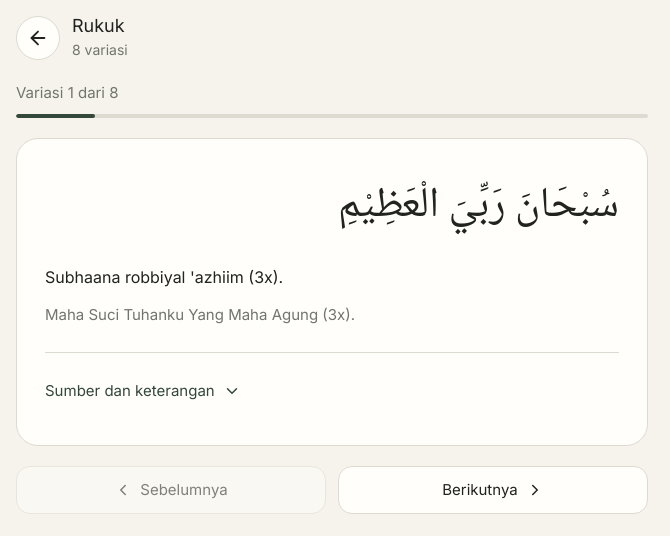
Test: Detail page › navigates next and previous with disabled states
This screenshot has width=670, height=536.
Expected: the text "Variasi 1 dari 8" is shown, [16,83,118,102]
Expected: the button "Sebelumnya" is disabled, [16,466,326,514]
Click the button "Berikutnya": (493, 490) [338,466,648,514]
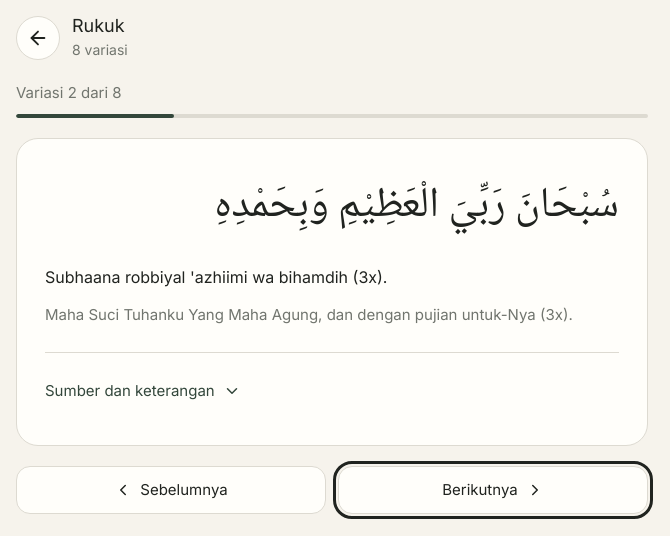
Expected: the text "Variasi 2 dari 8" is shown, [16,83,122,102]
Expected: the button "Sebelumnya" is enabled
Click the button "Sebelumnya": (171, 490) [16,466,326,514]
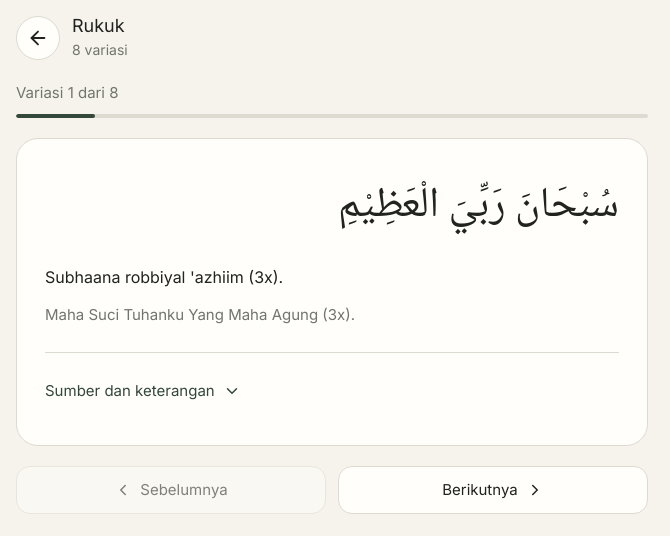
Expected: the text "Variasi 1 dari 8" is shown, [16,83,118,102]
Expected: the button "Sebelumnya" is disabled, [16,466,326,514]
